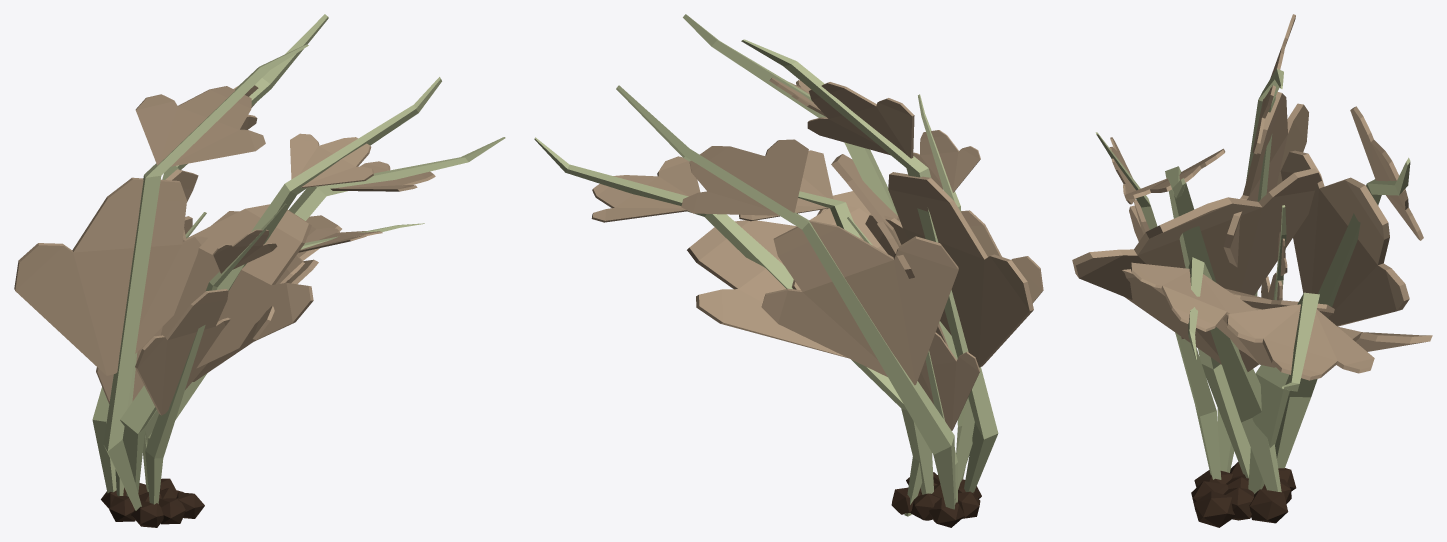
The model's file is Carrot_Dry_5.fbx.
The picture shows the model from 3 angles, left to right: view 1: azimuth 30°, elevation 25°; view 2: azimuth 150°, elevation 25°; view 3: azimuth 270°, elevation 25°; orthographic projection. The views are drawn at different scales.
Visible parts, largest first — view 1: 5_Dry_Carrot; view 2: 5_Dry_Carrot; view 3: 5_Dry_Carrot.
Boxes of the visible parts, box(x1,y1,x2,y2) form: 5_Dry_Carrot: box(14, 14, 505, 527); 5_Dry_Carrot: box(534, 14, 1043, 527); 5_Dry_Carrot: box(1072, 14, 1432, 527).
Bounding box in the file's own units: 52.97 × 43.97 × 27.09.
